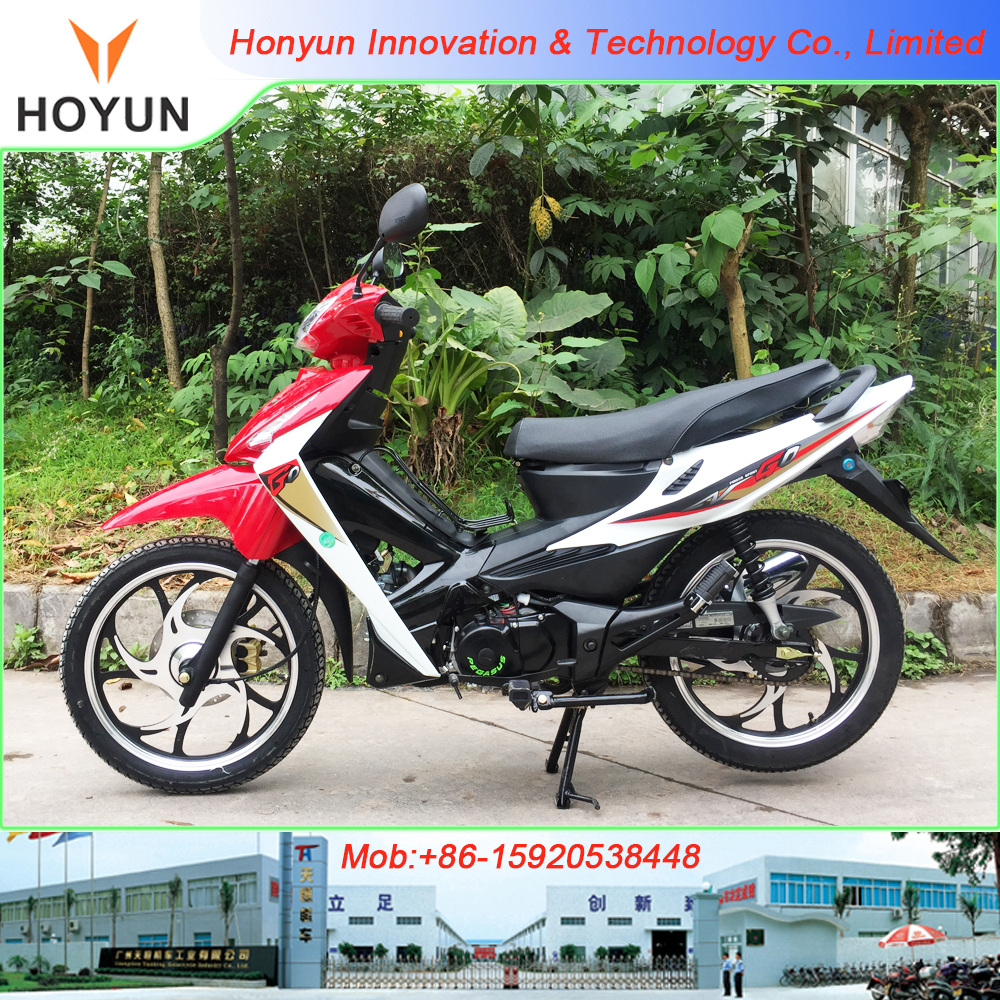motorbike: (46, 195, 937, 781)
